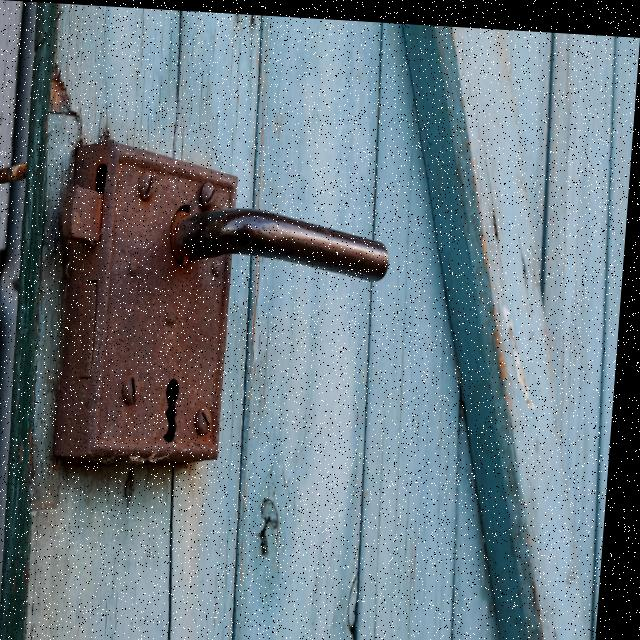corrosion: (46, 122, 245, 479)
